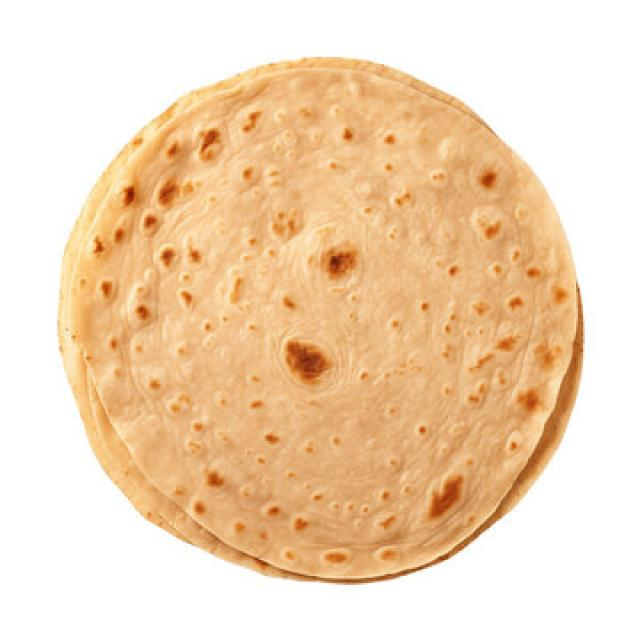ROTI: (60, 60, 571, 574)
